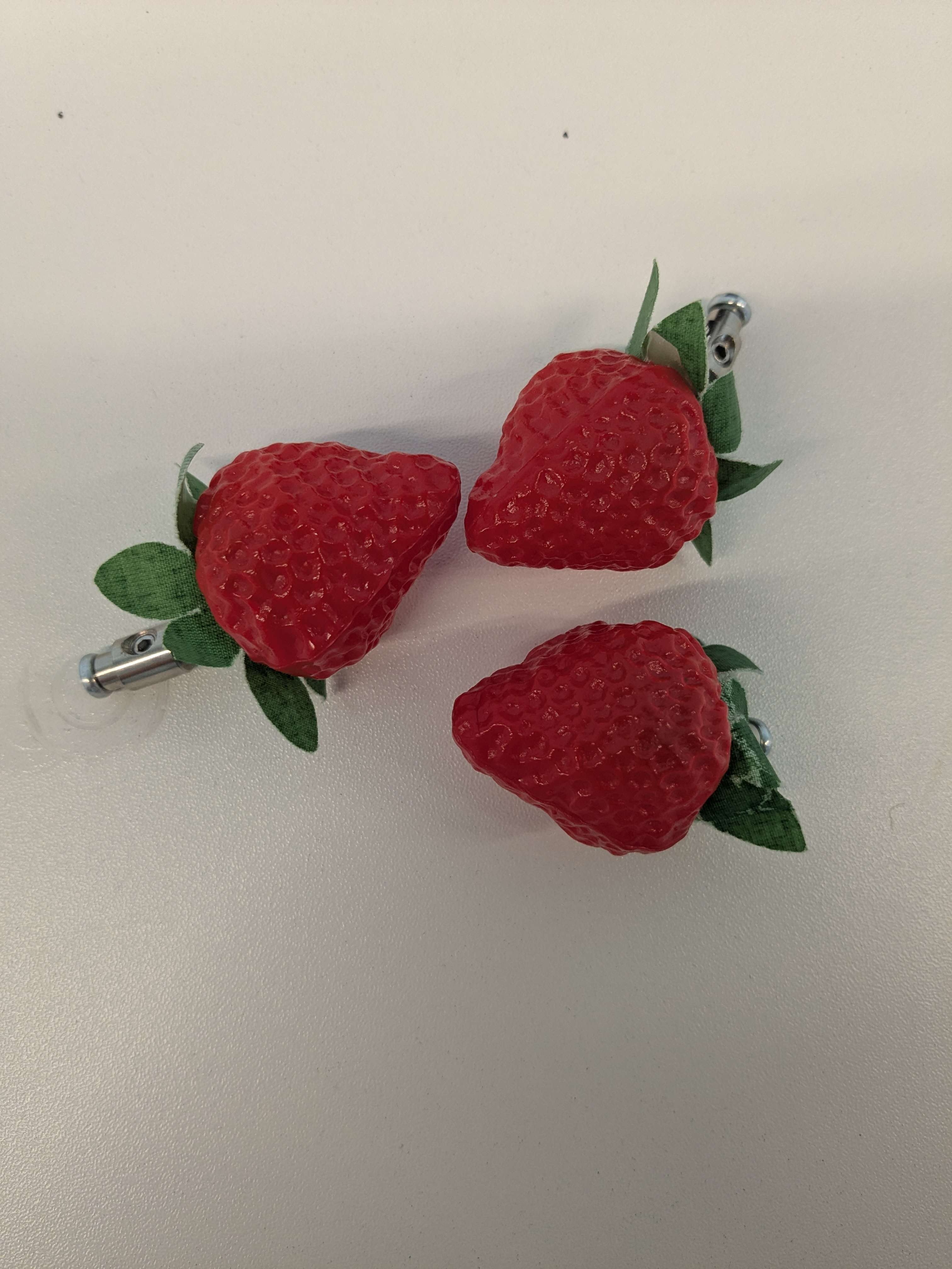Strawberry: (187, 415, 480, 668), (445, 343, 741, 589), (448, 608, 729, 867)
